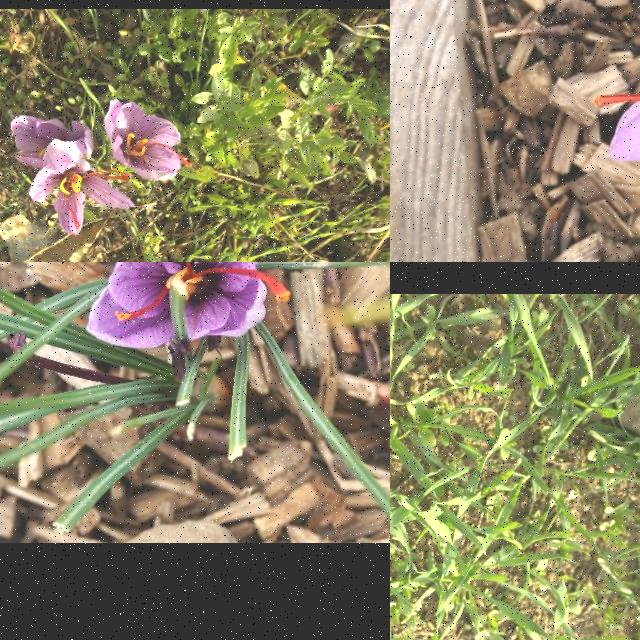flower: (87, 262, 290, 348), (104, 99, 190, 181)
overlap: (11, 116, 135, 234)
